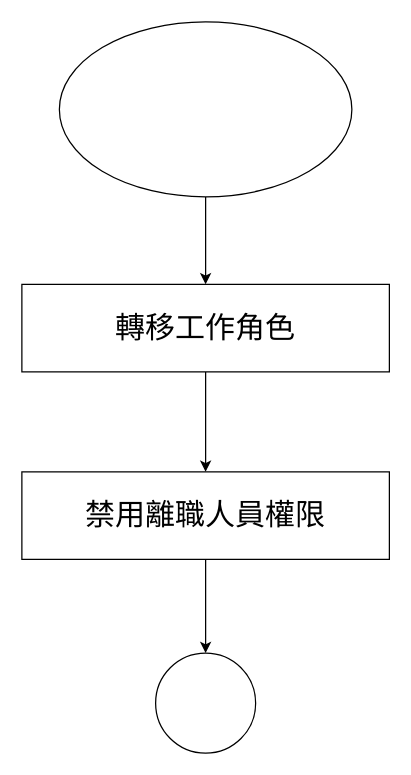
The diagram is 411 pixels wide and 775 high, and some of its shapes have lost their labels. The shapes that lost their labels are listed below. From the top down, each one's box as (x1, y1, x2, y2) in pixels, then its label:
(58, 21, 352, 197): 人資課通知 人員離職
(154, 652, 256, 753): END
